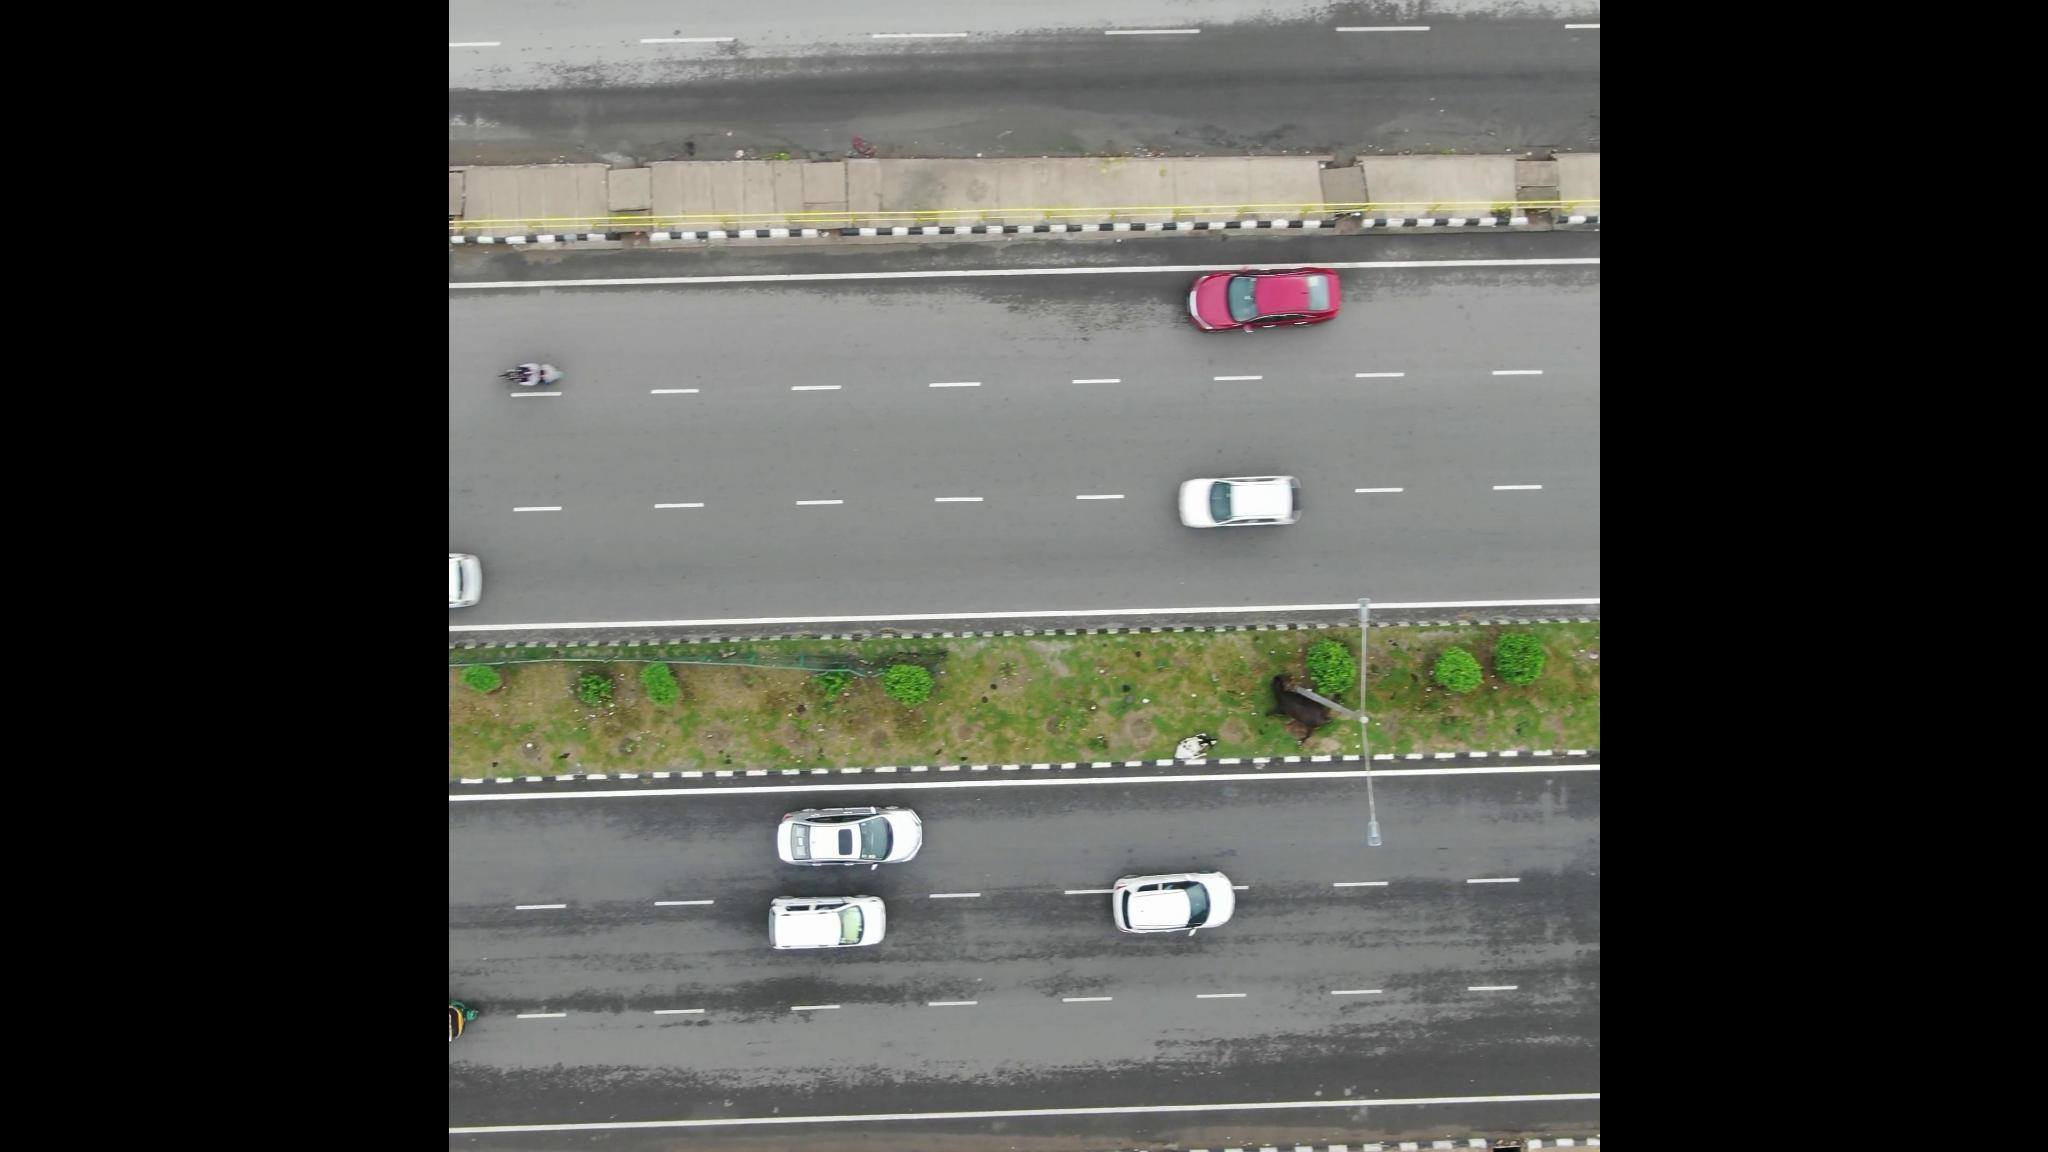Cracks: (1311, 1, 1431, 18)
